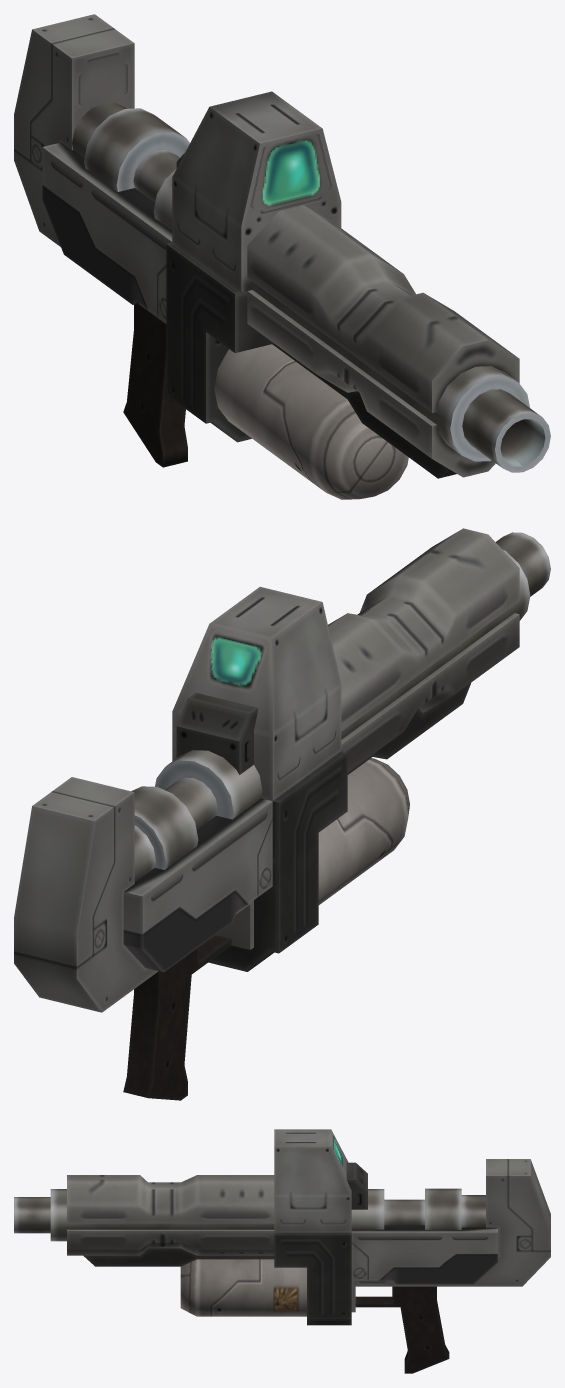
File: BazookaV1-1.glb
3 renders of one model, top to bottom at view 1: azimuth 30°, elevation 25°; view 2: azimuth 150°, elevation 25°; view 3: azimuth 270°, elevation 25°, orthographic. The views are drawn at different scales.
Visible parts, largest first — view 1: Frame1, Frame2, Handle, Barrel, Drum; view 2: Frame1, Handle, Frame2, Barrel, Drum; view 3: Frame1, Frame2, Handle, Barrel, Drum.
Part boxes in pixels (<box>): Frame1: <box>42,91,341,442</box>; Frame2: <box>247,205,519,478</box>; Handle: <box>14,14,187,467</box>; Barrel: <box>72,102,550,472</box>; Drum: <box>214,344,408,499</box>; Frame1: <box>123,586,347,972</box>; Handle: <box>14,693,258,1100</box>; Frame2: <box>328,528,519,774</box>; Barrel: <box>131,532,550,881</box>; Drum: <box>318,758,409,904</box>; Frame1: <box>274,1129,497,1325</box>; Frame2: <box>67,1175,274,1266</box>; Handle: <box>346,1159,550,1373</box>; Barrel: <box>14,1188,485,1241</box>; Drum: <box>180,1259,306,1316</box>.
Bounding box in the file's own units: 0.1406 × 0.4922 × 1.03.
5 materials, 5 textured.
